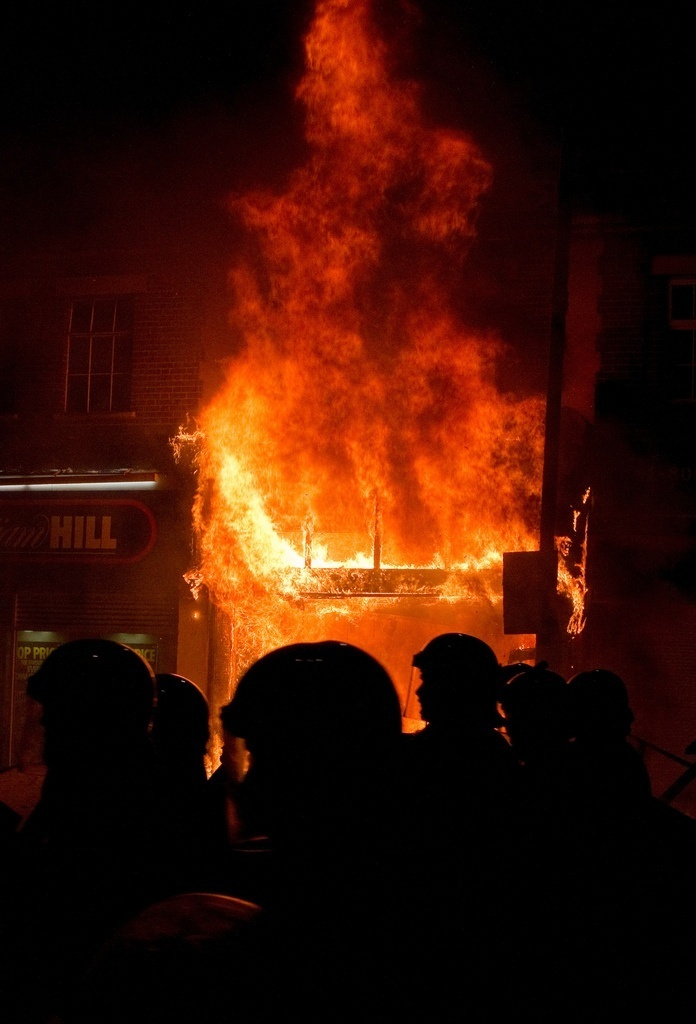fire: (184, 3, 526, 586)
